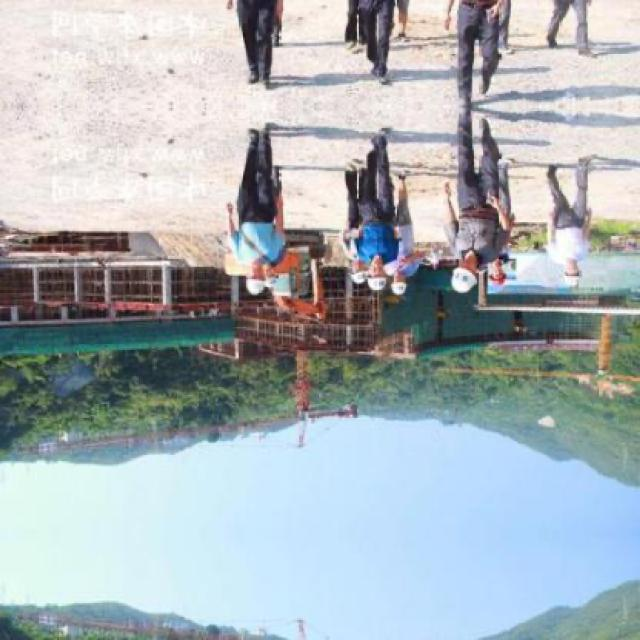con casco: (429, 230, 494, 298), (356, 243, 408, 302), (234, 245, 284, 306), (555, 257, 597, 294)
